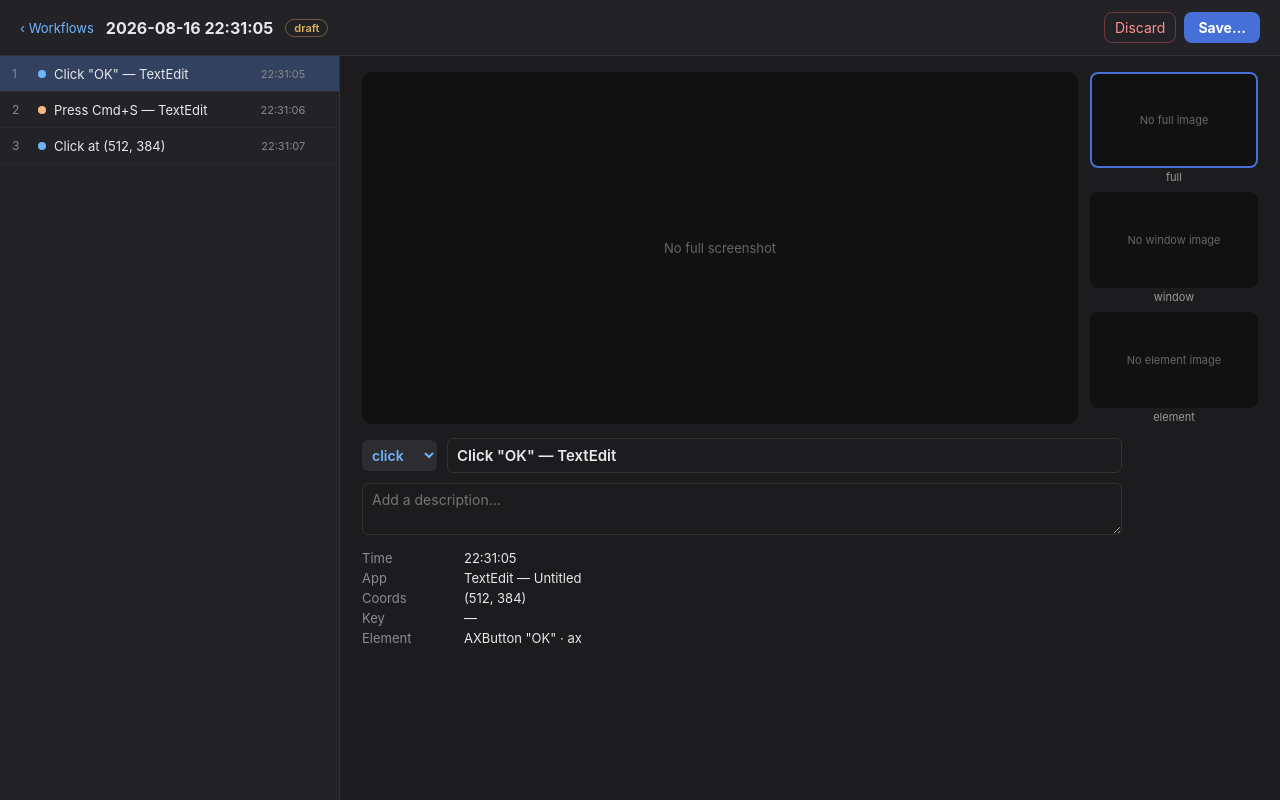
Test: draft review › pre-selects the manifest's default name in the naming dialog and exits draft only on rename success
Check: the text "Click \"OK\" — TextEdit" is shown, box [54,66,189,82]
Click the button "Save…" at (1222, 28), box [1184,12,1260,43]
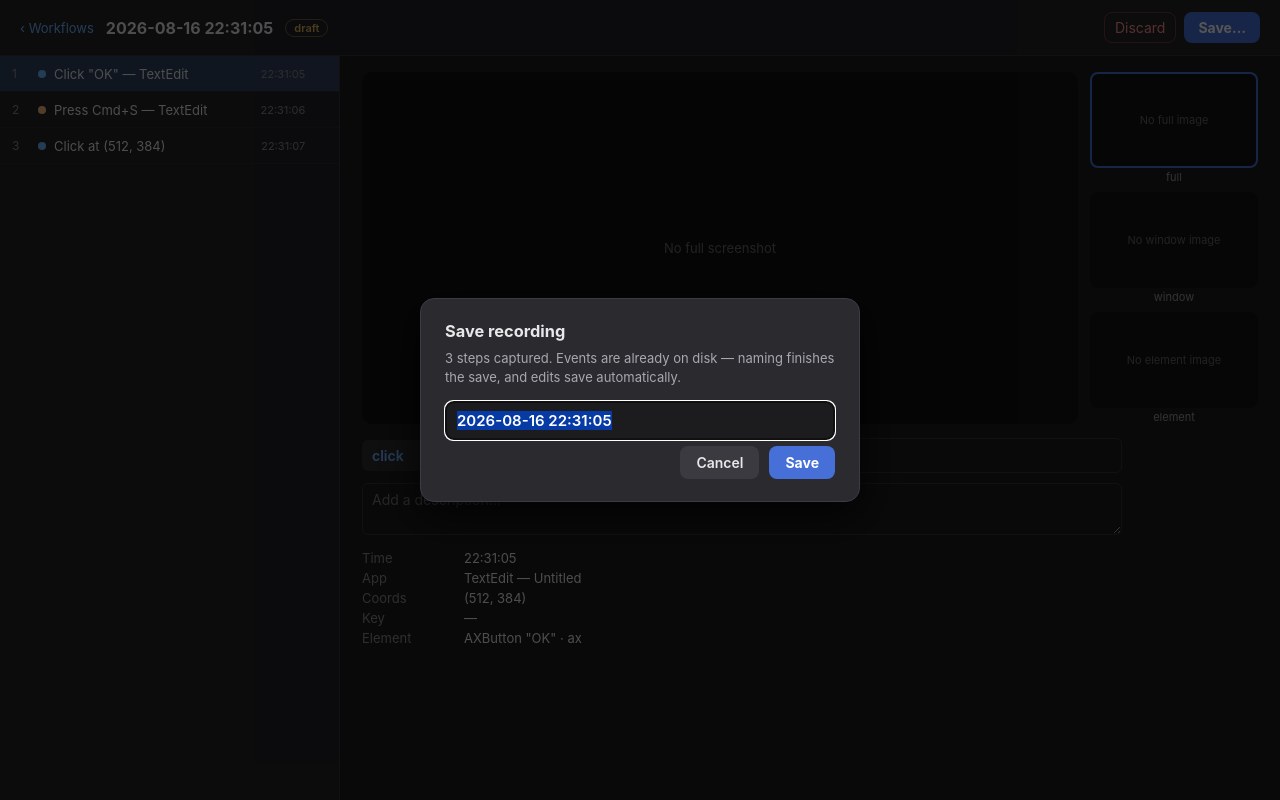
Check: the field named "Recording name" holds "2026-08-16 22:31:05"
Replace the text in the field named "Recording name" with "  Approve invoice  " at (640, 420), box [445,401,835,440]
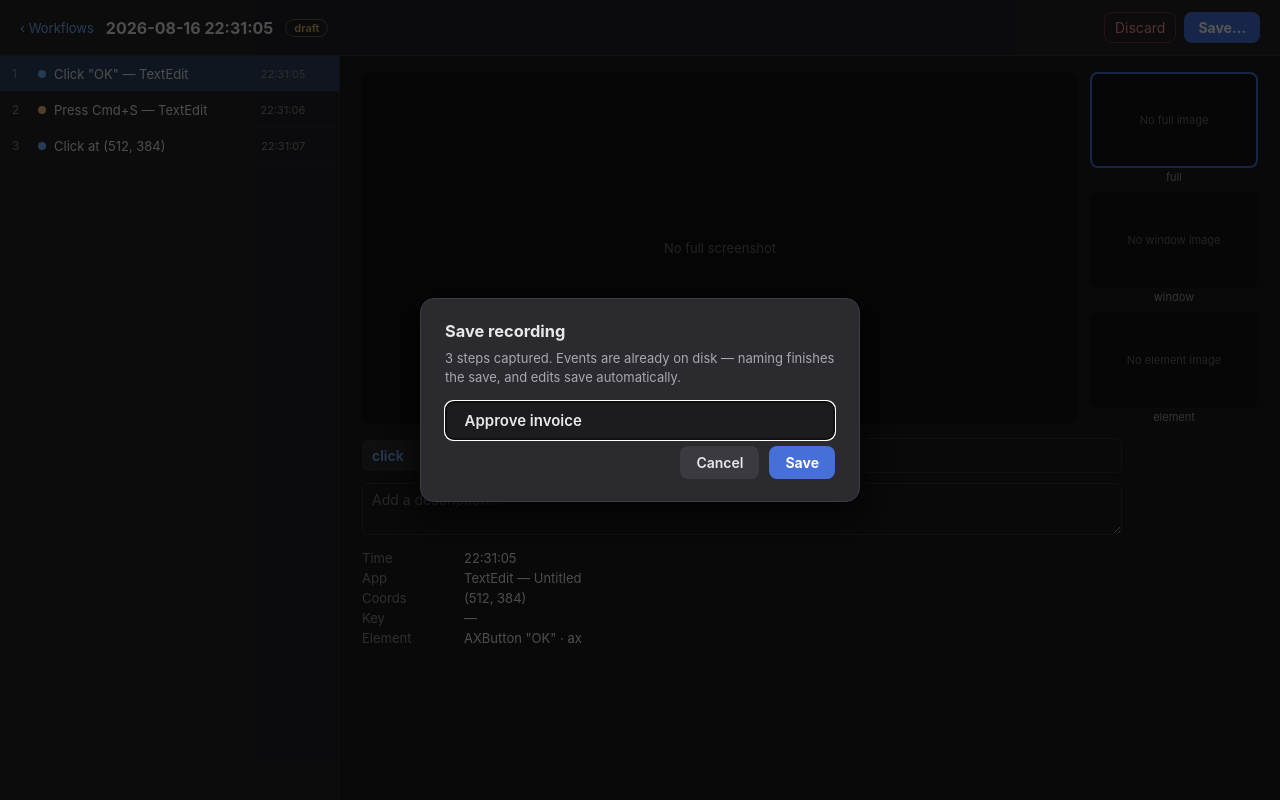
Click the button "Save" at (802, 462), box [770,446,835,479]
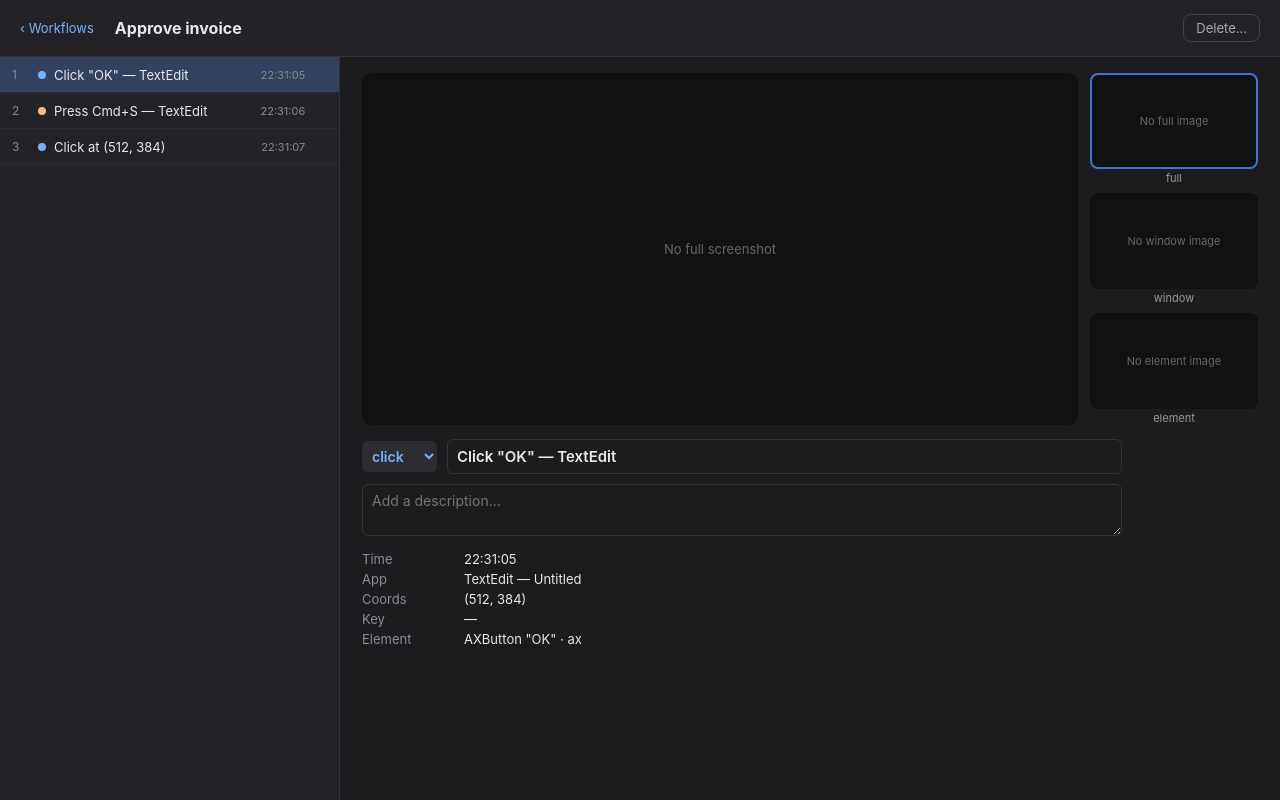
Check: the text "draft" is gone
Check: the field named "Workflow name" holds "Approve invoice", box [106,12,1171,44]
Check: the button "Delete…" is shown, box [1183,14,1260,42]
